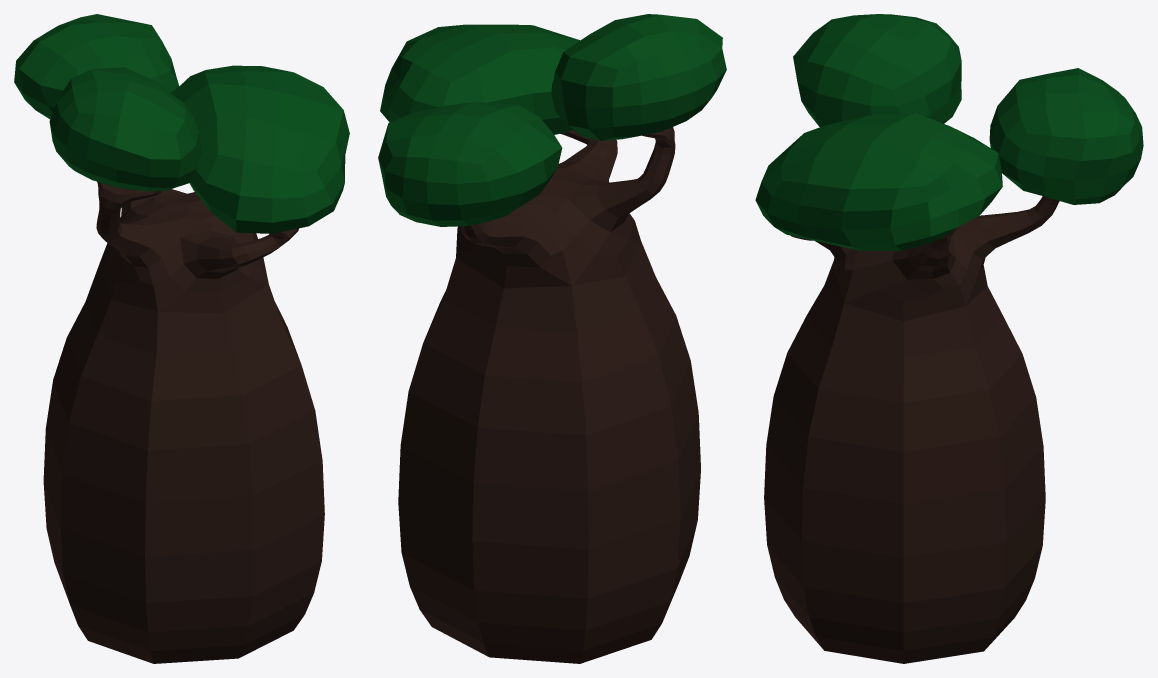
Rendered from lp_tree_6_Cube_032.obj.
The picture shows the model from 3 angles, left to right: view 1: azimuth 30°, elevation 25°; view 2: azimuth 150°, elevation 25°; view 3: azimuth 270°, elevation 25°; orthographic projection. The views are drawn at different scales.
Visible parts, largest first — view 1: lp_tree_6_Cube_032; view 2: lp_tree_6_Cube_032; view 3: lp_tree_6_Cube_032.
Boxes of the visible parts, box(x1,y1,x2,y2) form: lp_tree_6_Cube_032: box(14, 14, 349, 663); lp_tree_6_Cube_032: box(378, 14, 726, 663); lp_tree_6_Cube_032: box(755, 14, 1143, 663).
Bounding box in the file's own units: 5.09 × 10.01 × 6.14.
